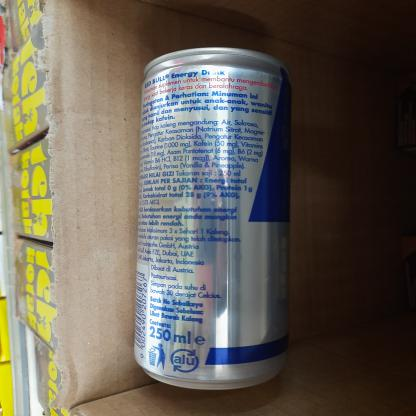bottle: (134, 45, 301, 390)
